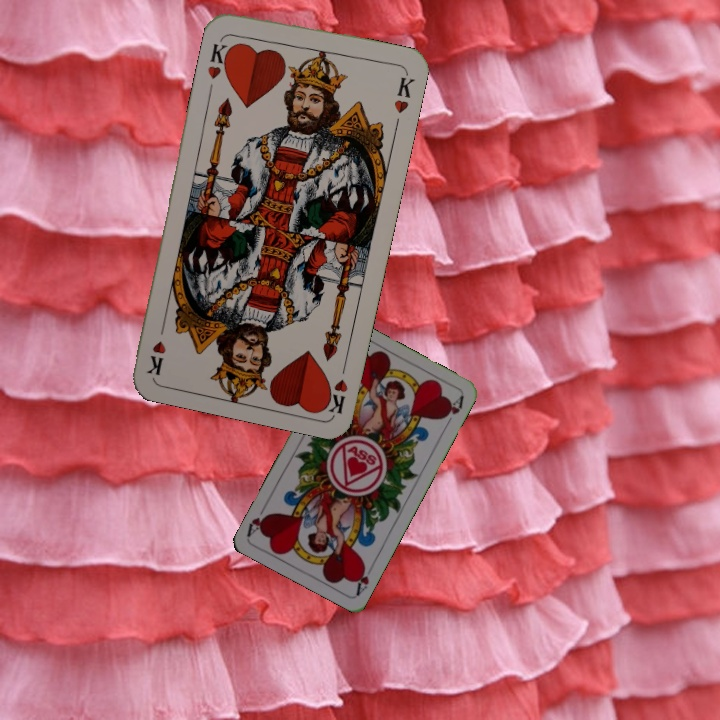HA: (351, 560, 372, 597)
HK: (320, 355, 351, 415), (203, 32, 235, 82)
